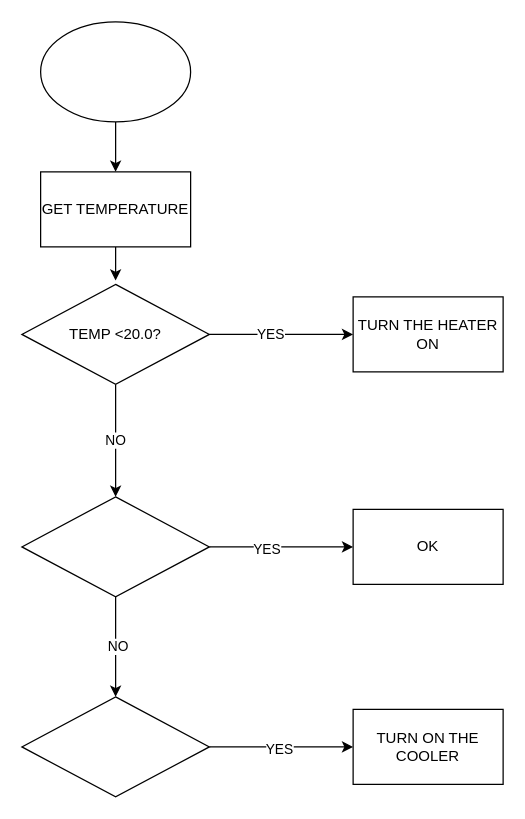
Some shapes in this 525 by 819 pixel diagram are drawn without their labels. Here are the shapes that lost their labels. From the top down, the centre of each, then its label:
At point 115,71: "START".
At point 115,546: "20.0<=TEMP<=25.0".
At point 115,746: "TEMP>=25.0".
